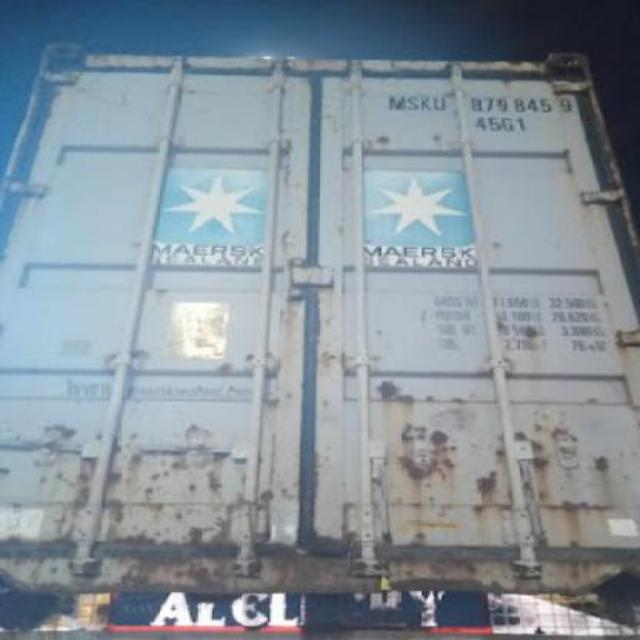4: (526, 93, 540, 113)
5: (540, 90, 550, 114)
7: (482, 92, 494, 112)
8: (468, 92, 482, 112), (512, 92, 524, 112)
9: (558, 94, 574, 116), (496, 93, 509, 113)
K: (418, 89, 432, 115)
M: (386, 90, 406, 112)
S: (404, 89, 418, 113)
U: (432, 91, 448, 112)
